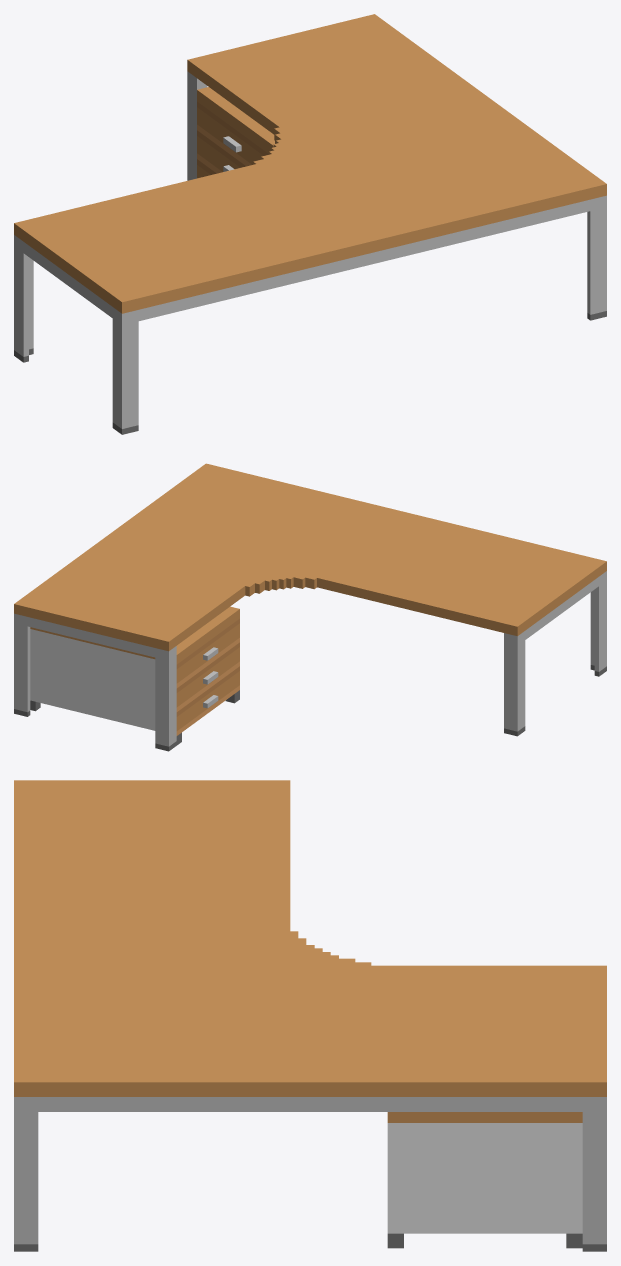
File: Desk3-1.fbx
The picture shows the model from 3 angles, top to bottom: view 1: azimuth 30°, elevation 25°; view 2: azimuth 150°, elevation 25°; view 3: azimuth 270°, elevation 25°; orthographic projection. The views are drawn at different scales.
Parts seen in each view (by area): view 1: Desk3-1.001; view 2: Desk3-1.001; view 3: Desk3-1.001.
Part boxes in pixels (<box>): Desk3-1.001: <box>14,14,606,434</box>; Desk3-1.001: <box>14,463,606,751</box>; Desk3-1.001: <box>14,780,606,1251</box>.
Size of the model in its own units: 8.8 by 2.3 by 7.3.
